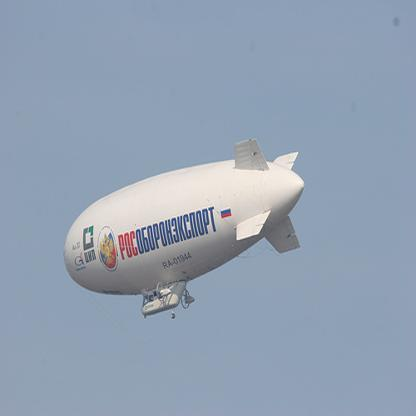Airship: (61, 138, 309, 320)
